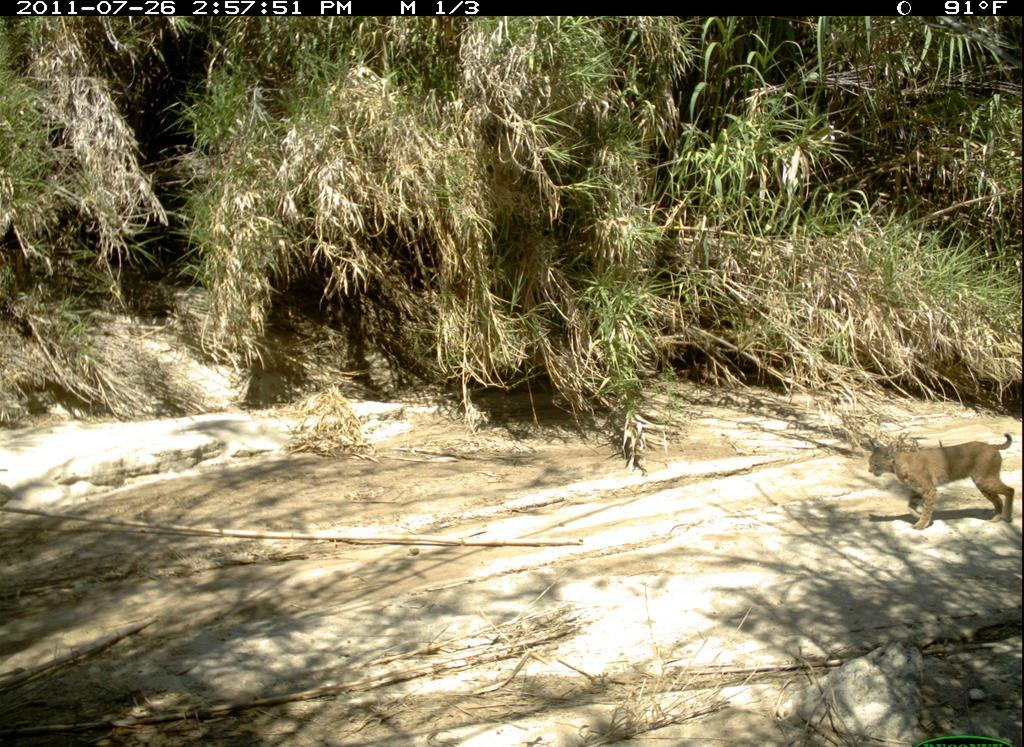bobcat: (862, 424, 1016, 541)
